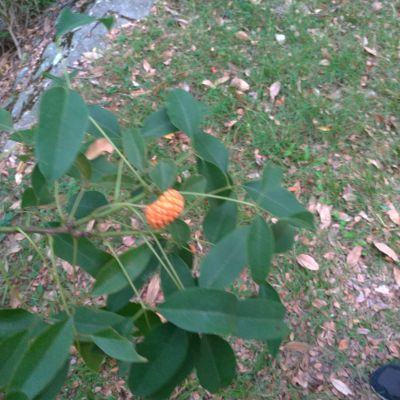eggs: (142, 187, 188, 227)
